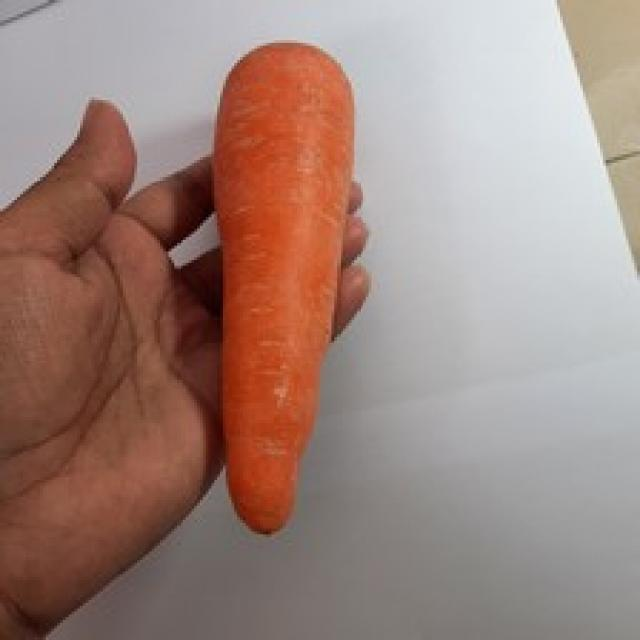carrot: (182, 24, 364, 564)
